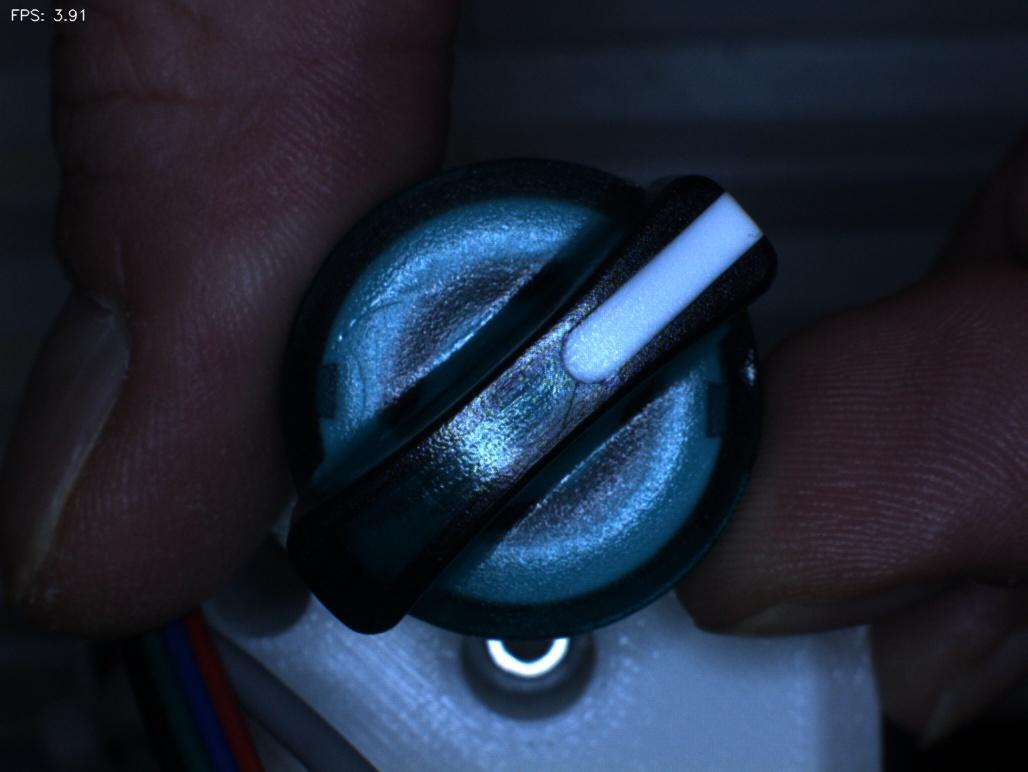Choc: (709, 321, 794, 423)
